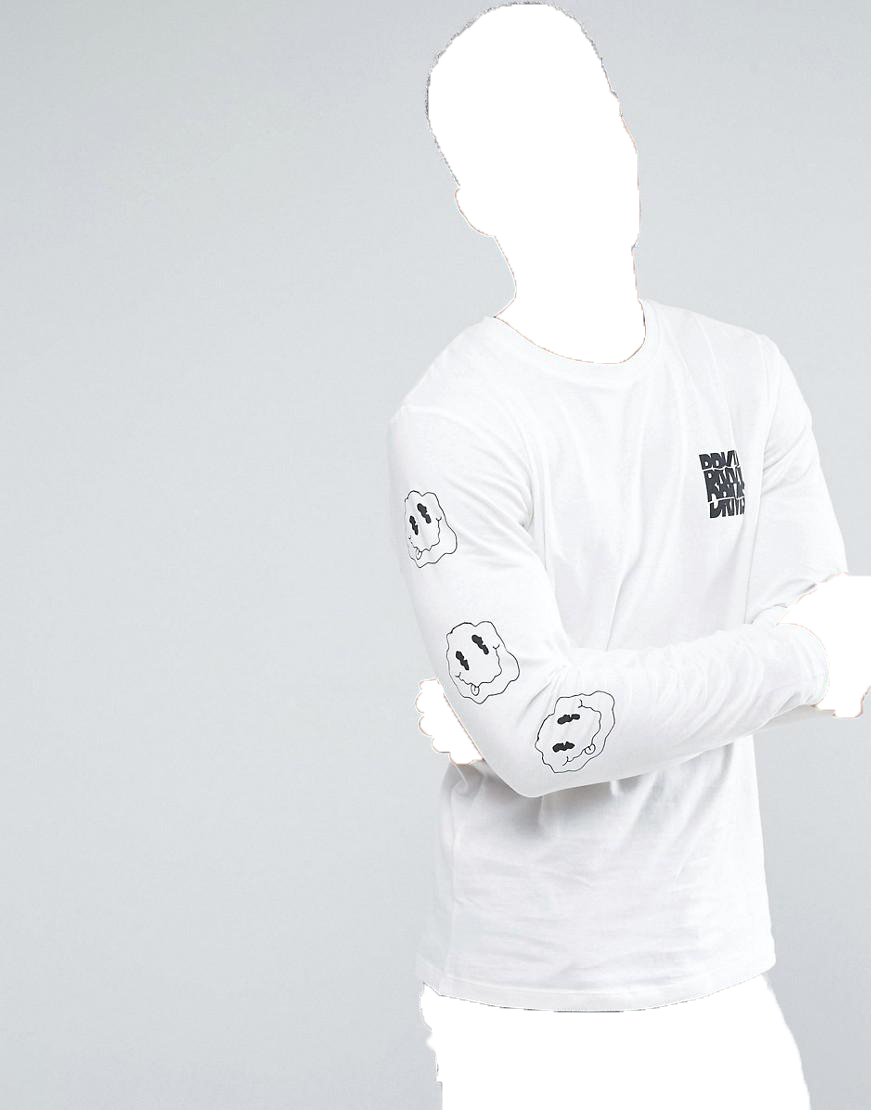teeshirt: (366, 295, 868, 1012)
